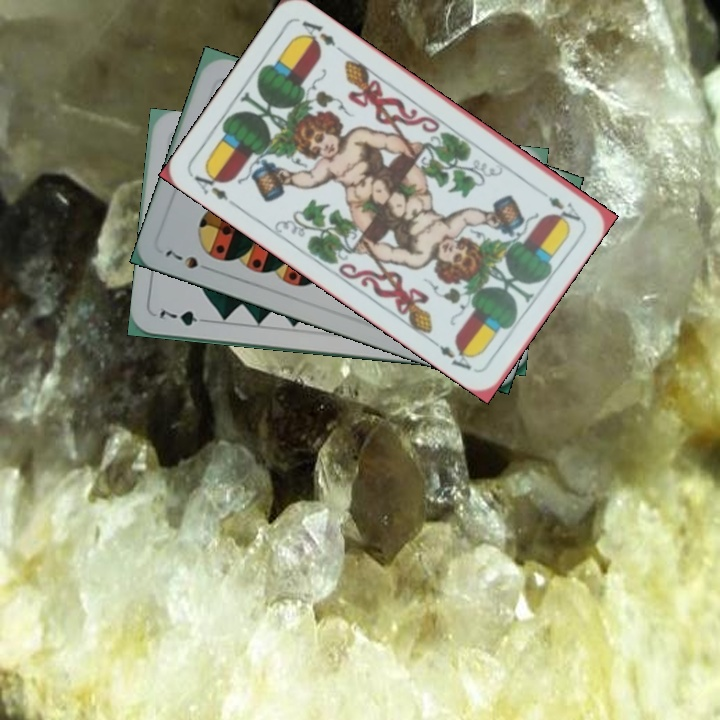EA: (190, 164, 240, 210), (544, 192, 584, 224)
G7: (155, 304, 213, 329)
S7: (161, 245, 201, 272)
